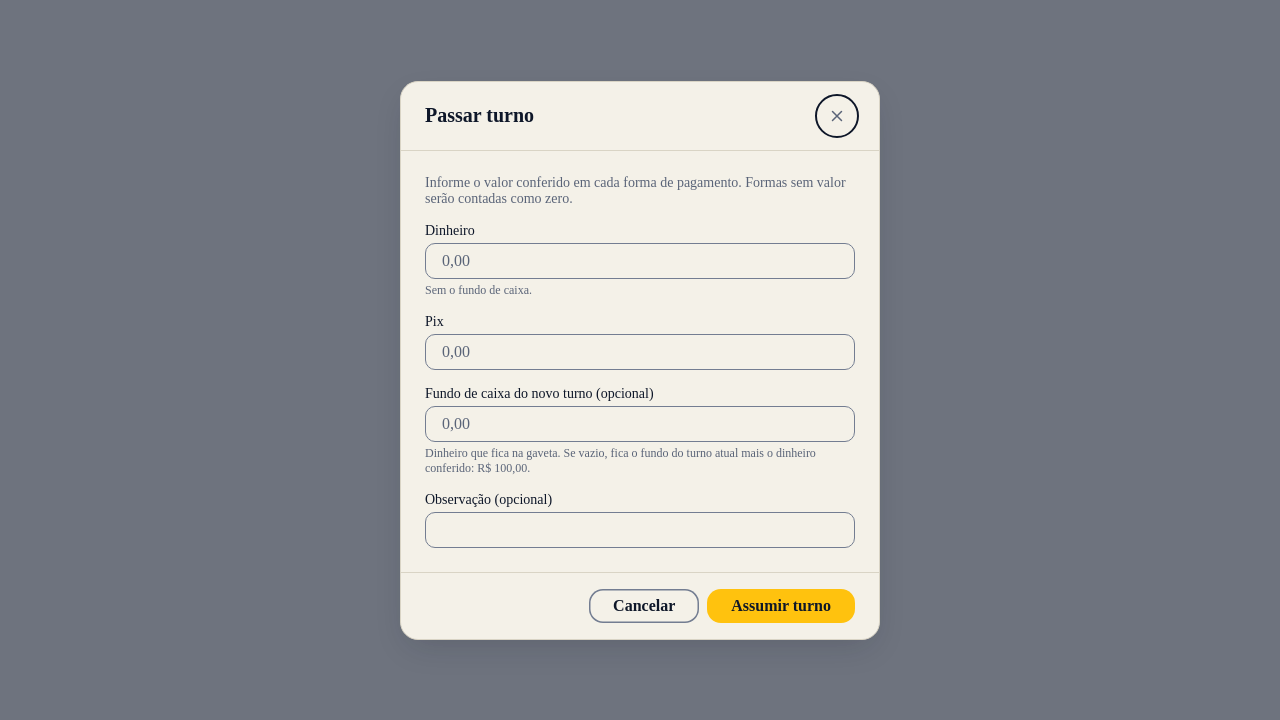
Test: PassarTurnoModal › mostra a mensagem da API quando o turno já é do usuário
Click the button "Assumir turno" at (781, 606), box x1=707 y1=588 x2=855 y2=622
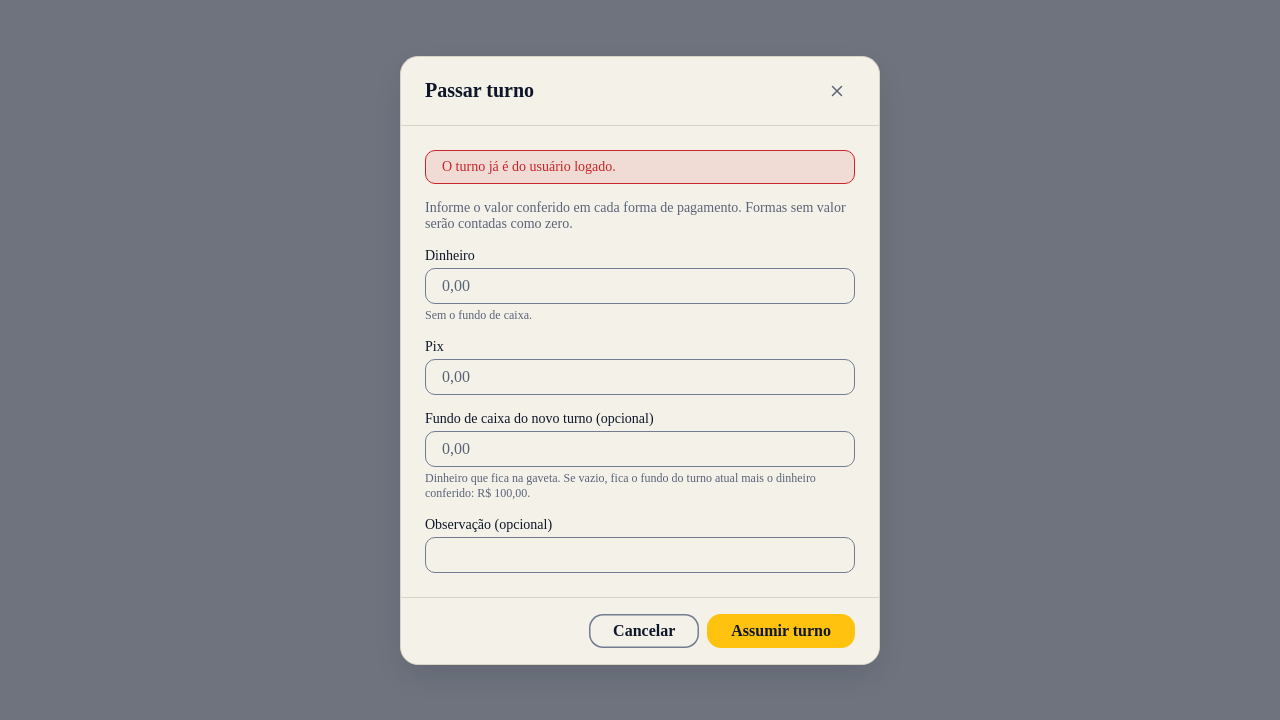
Check: the message "O turno já é do usuário logado." is shown, box x1=425 y1=150 x2=855 y2=184
